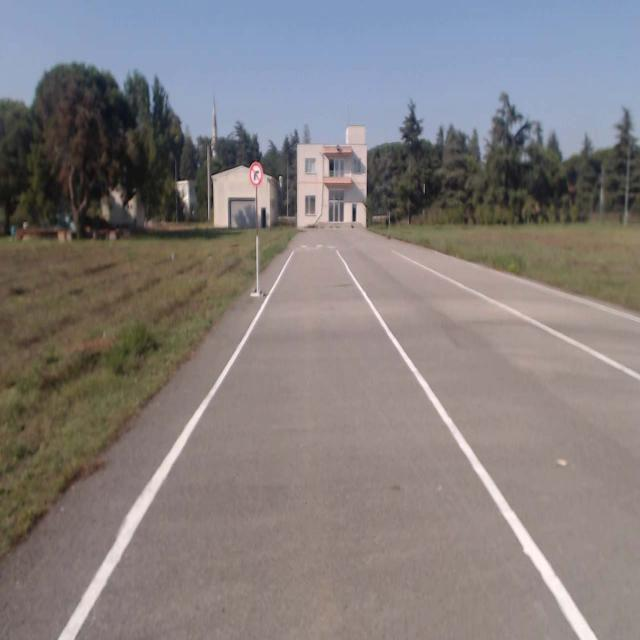sagadonulmez: (250, 164, 262, 184)
